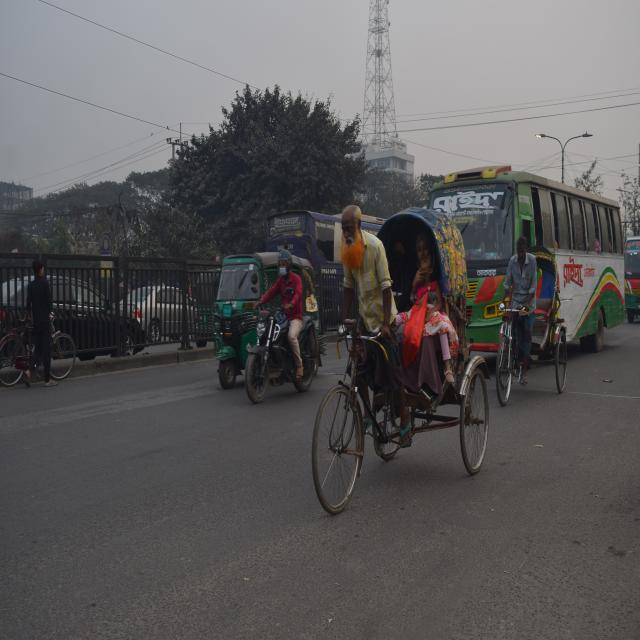bus: (420, 151, 628, 368), (262, 198, 385, 310)
car: (0, 267, 150, 380), (116, 269, 202, 350)
